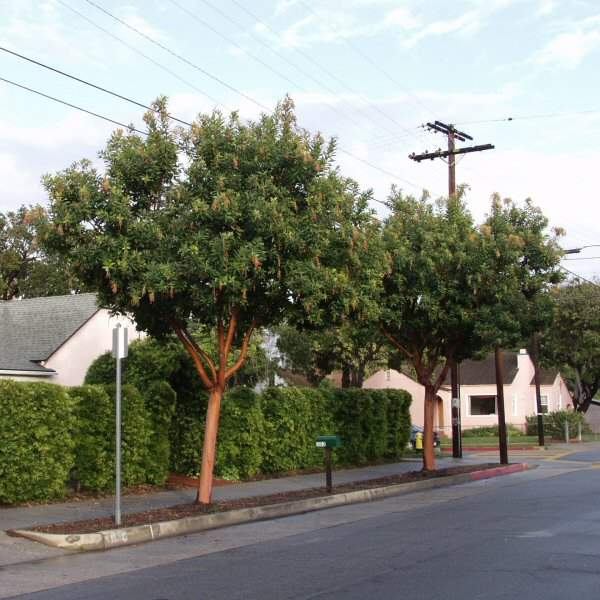tree: (24, 91, 379, 509), (355, 182, 570, 474)
